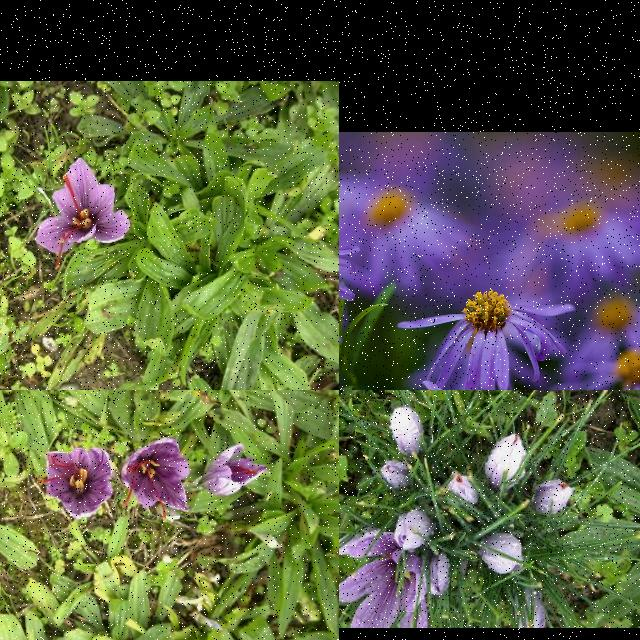flower: (36, 158, 132, 272), (124, 438, 192, 520), (38, 448, 114, 518), (201, 446, 269, 496), (485, 433, 529, 489), (480, 532, 524, 574), (532, 478, 576, 518), (391, 407, 425, 458), (515, 588, 547, 628), (446, 473, 480, 505), (380, 460, 414, 490)
overlap: (339, 509, 452, 629)
